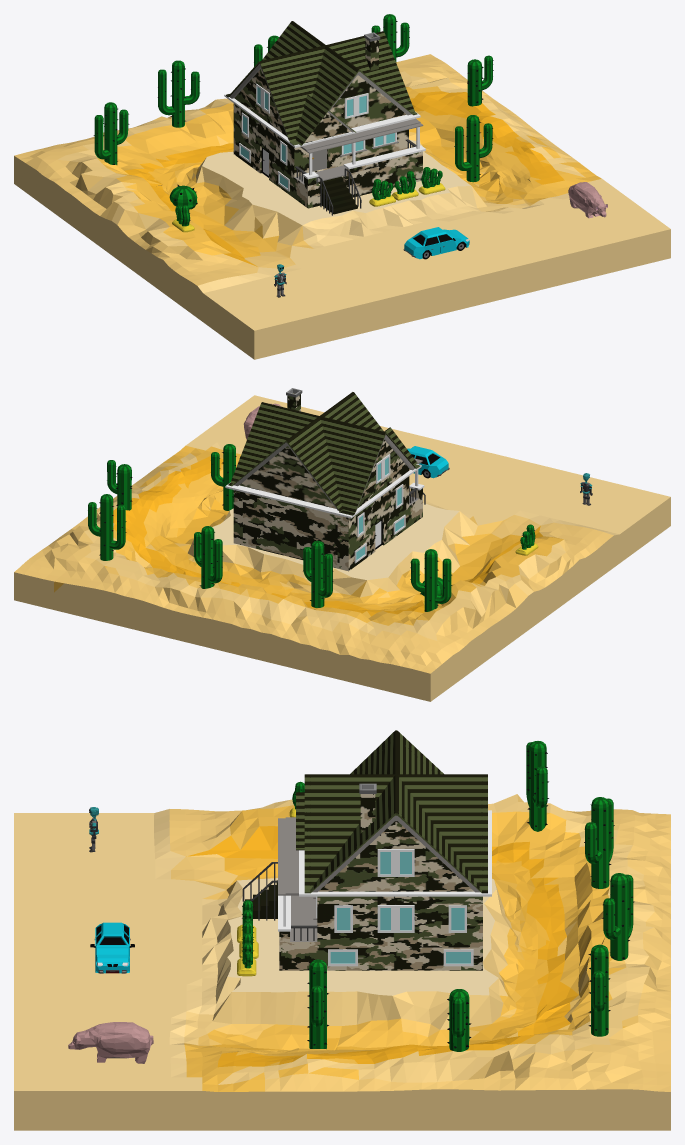
3 views of the same model, one above another, from view 1: azimuth 30°, elevation 25°; view 2: azimuth 150°, elevation 25°; view 3: azimuth 270°, elevation 25° (orthographic). The views are drawn at different scales.
Parts seen in each view (by area): view 1: Cube.001, Cube.002, Cylinder.037, Cylinder.044, Cylinder.045, VEHICLES_CAR, Cylinder.038, ANIMAL_HIPOPOTAMO, Cylinder.042, Cylinder.039, Cylinder.041, Sphere.023 (+1 smaller); view 2: Cube.001, Cube.002, Cylinder.042, Cylinder.045, Cylinder.044, Cylinder.043, Cylinder.037, Cylinder.038, VEHICLES_CAR; view 3: Cube.001, Cube.002, ANIMAL_HIPOPOTAMO, Cylinder.043, Cylinder.044, VEHICLES_CAR, Cylinder.045, Cylinder.042, Cylinder.037, Cylinder.038, Cylinder.041.
Boxes of the visible parts, x1=… form: Cube.001: x1=14, y1=54, x2=670, y2=359; Cube.002: x1=224, y1=21, x2=425, y2=215; Cylinder.037: x1=454, y1=115, x2=493, y2=182; Cylinder.044: x1=157, y1=60, x2=200, y2=127; Cylinder.045: x1=93, y1=102, x2=129, y2=164; VEHICLES_CAR: x1=403, y1=227, x2=469, y2=259; Cylinder.038: x1=467, y1=55, x2=493, y2=106; ANIMAL_HIPOPOTAMO: x1=568, y1=182, x2=607, y2=218; Cylinder.042: x1=371, y1=14, x2=409, y2=62; Cylinder.039: x1=369, y1=179, x2=395, y2=206; Cylinder.041: x1=418, y1=167, x2=445, y2=194; Sphere.023: x1=169, y1=184, x2=197, y2=209; Cube.001: x1=14, y1=395, x2=670, y2=701; Cube.002: x1=225, y1=388, x2=425, y2=571; Cylinder.042: x1=88, y1=494, x2=126, y2=560; Cylinder.045: x1=410, y1=549, x2=452, y2=611; Cylinder.044: x1=303, y1=540, x2=333, y2=607; Cylinder.043: x1=193, y1=526, x2=222, y2=588; Cylinder.037: x1=211, y1=444, x2=240, y2=510; Cylinder.038: x1=107, y1=460, x2=132, y2=510; VEHICLES_CAR: x1=407, y1=446, x2=449, y2=478; Cube.001: x1=14, y1=794, x2=670, y2=1130; Cube.002: x1=242, y1=730, x2=491, y2=970; ANIMAL_HIPOPOTAMO: x1=68, y1=1022, x2=153, y2=1063; Cylinder.043: x1=602, y1=873, x2=634, y2=960; Cylinder.044: x1=584, y1=797, x2=614, y2=888; VEHICLES_CAR: x1=90, y1=922, x2=134, y2=973; Cylinder.045: x1=526, y1=741, x2=548, y2=831; Cylinder.042: x1=588, y1=944, x2=610, y2=1036; Cylinder.037: x1=307, y1=959, x2=328, y2=1048; Cylinder.038: x1=447, y1=989, x2=471, y2=1051; Cylinder.041: x1=237, y1=933, x2=256, y2=976.
Size of the model in its own units: 4002 by 1731 by 4001.
Materials: 34 (4 with a texture image).
